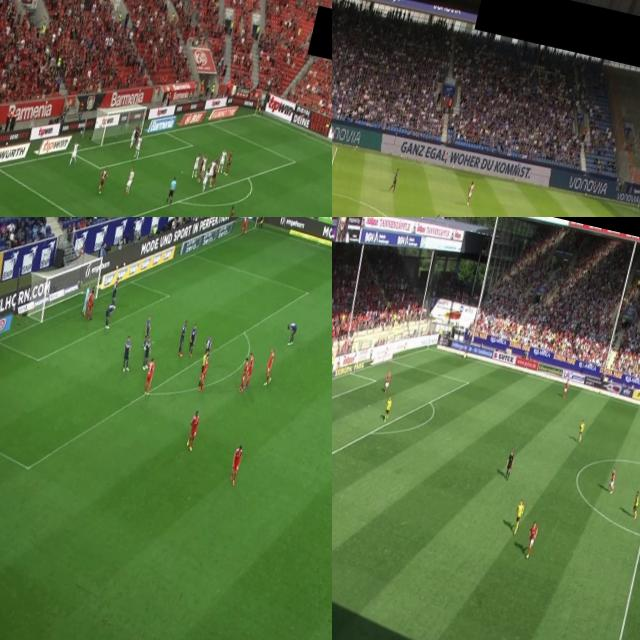ball: (244, 228, 248, 235)
player: (183, 405, 203, 455), (227, 438, 245, 486), (174, 316, 193, 359), (119, 331, 137, 374), (522, 520, 541, 560), (510, 496, 528, 534), (261, 345, 278, 385), (242, 348, 258, 386), (121, 162, 138, 196), (388, 162, 404, 198), (236, 352, 250, 391), (140, 313, 154, 351), (282, 318, 299, 348), (142, 359, 156, 395), (380, 395, 395, 428), (626, 487, 640, 522), (94, 165, 109, 196), (462, 182, 476, 214), (140, 339, 154, 370), (108, 274, 122, 305), (604, 468, 618, 499), (187, 322, 200, 354), (198, 358, 210, 392), (205, 157, 218, 187), (82, 290, 95, 320), (102, 300, 117, 326), (201, 335, 214, 364), (80, 284, 92, 314), (382, 366, 394, 396), (68, 140, 81, 167), (190, 150, 202, 179), (573, 418, 587, 441), (216, 147, 228, 172), (200, 166, 211, 192), (560, 376, 572, 399), (238, 217, 252, 236), (223, 148, 234, 172), (85, 288, 95, 314), (196, 154, 206, 178), (208, 156, 218, 180), (134, 134, 144, 157), (210, 160, 220, 183), (199, 152, 208, 174), (225, 202, 236, 217), (133, 124, 141, 144), (130, 128, 138, 146), (332, 129, 338, 153)
